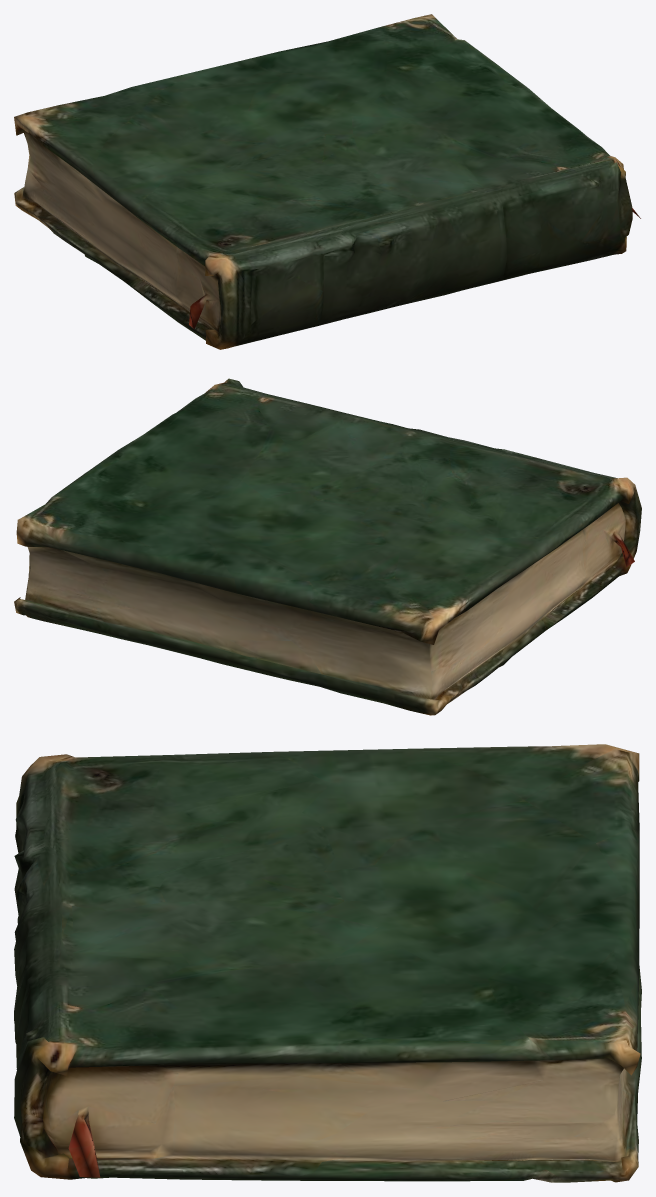
The model's file is qi_logbook.glb.
3 renders of one model, top to bottom at view 1: azimuth 30°, elevation 25°; view 2: azimuth 150°, elevation 25°; view 3: azimuth 270°, elevation 25°, orthographic. The views are drawn at different scales.
Parts seen in each view (by area): view 1: tripo_node_5b6b42d3-068f-440f-9361-7c464e72af66; view 2: tripo_node_5b6b42d3-068f-440f-9361-7c464e72af66; view 3: tripo_node_5b6b42d3-068f-440f-9361-7c464e72af66.
Part boxes in pixels (x1=…): tripo_node_5b6b42d3-068f-440f-9361-7c464e72af66: x1=14, y1=14, x2=640, y2=349; tripo_node_5b6b42d3-068f-440f-9361-7c464e72af66: x1=14, y1=378, x2=641, y2=715; tripo_node_5b6b42d3-068f-440f-9361-7c464e72af66: x1=14, y1=744, x2=641, y2=1182.
Bounding box in the file's own units: 1 × 0.2033 × 0.8137.
Materials: 1 (1 with a texture image).
